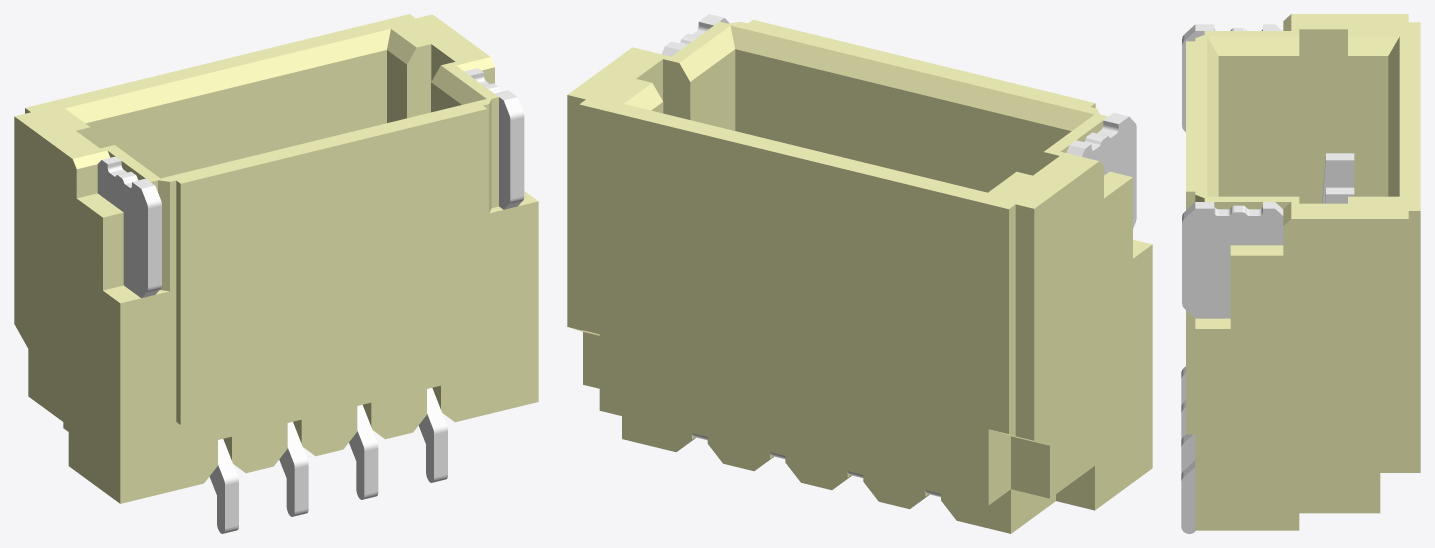
Rendered from sfe-jst_smd_1.0mm-4.glb.
3 renders of one model, left to right at view 1: azimuth 30°, elevation 25°; view 2: azimuth 150°, elevation 25°; view 3: azimuth 270°, elevation 25°, orthographic. The views are drawn at different scales.
Visible parts, largest first — view 1: 1_1_0.5_0, 1_1_1_0.85; view 2: 1_1_0.5_0, 1_1_1_0.85; view 3: 1_1_0.5_0, 1_1_1_0.85.
Boxes of the visible parts, box(x1,y1,x2,y2) form: 1_1_0.5_0: box(14, 14, 538, 503); 1_1_1_0.85: box(97, 68, 524, 533); 1_1_0.5_0: box(567, 19, 1152, 533); 1_1_1_0.85: box(662, 14, 1136, 497); 1_1_0.5_0: box(1186, 14, 1420, 530); 1_1_1_0.85: box(1181, 24, 1354, 533).
Bounding box in the file's own units: 0.6 × 0.495 × 0.296.
